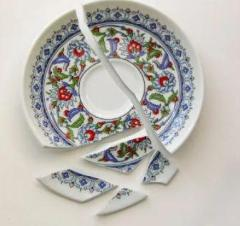glass: (21, 0, 205, 218)
